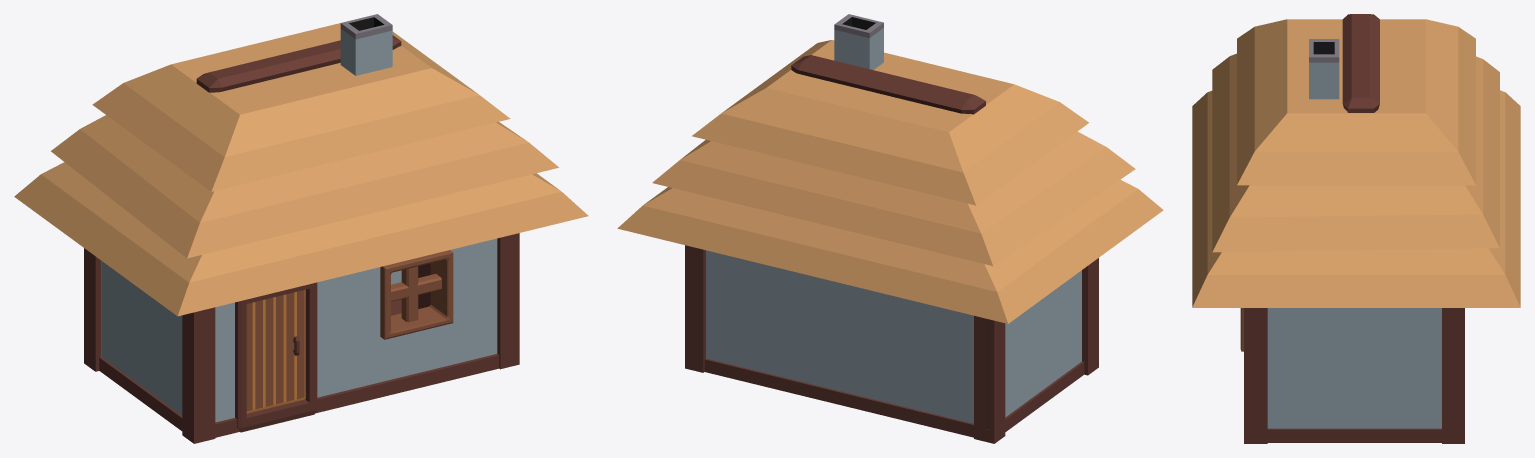
Rendered from kurin_FBX.fbx.
3 views of the same model, side by side, from view 1: azimuth 30°, elevation 25°; view 2: azimuth 150°, elevation 25°; view 3: azimuth 270°, elevation 25° (orthographic). The views are drawn at different scales.
Parts seen in each view (by area): view 1: Plane.002, Cube, DORE.003, Cube.003, Cube.008, Cube.007, Cube.004, Cube.001; view 2: Plane.002, Cube, Cube.007, Cube.004; view 3: Plane.002, Cube, Cube.007, Cube.004.
Part boxes in pixels (<box>): Plane.002: <box>14,23,588,316</box>; Cube: <box>84,233,519,443</box>; DORE.003: <box>246,289,305,413</box>; Cube.003: <box>235,282,317,432</box>; Cube.008: <box>380,250,453,339</box>; Cube.007: <box>196,35,401,92</box>; Cube.004: <box>340,14,392,75</box>; Cube.001: <box>391,266,441,322</box>; Plane.002: <box>617,40,1163,323</box>; Cube: <box>685,245,1098,443</box>; Cube.007: <box>791,55,985,114</box>; Cube.004: <box>834,14,883,69</box>; Plane.002: <box>1192,19,1520,307</box>; Cube: <box>1244,308,1464,443</box>; Cube.007: <box>1342,14,1379,112</box>; Cube.004: <box>1309,39,1339,99</box>.
Bounding box in the file's own units: 550 × 433 × 379.
